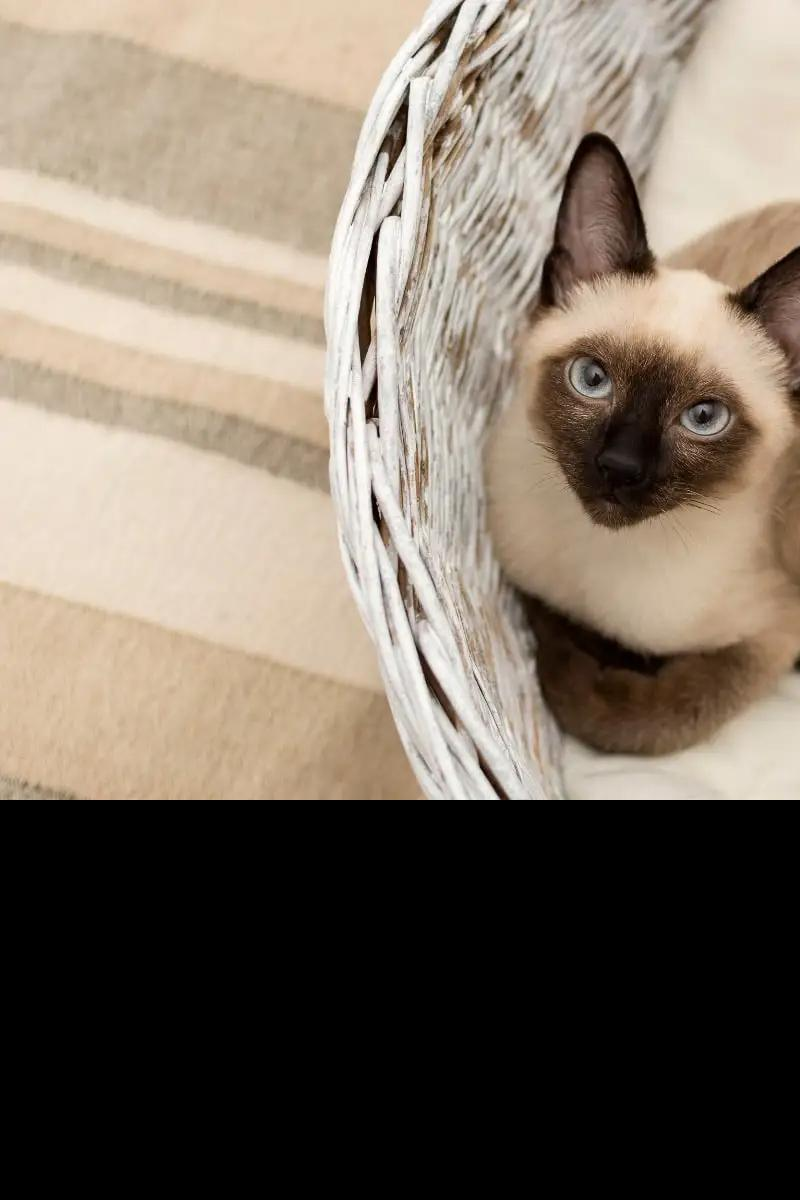siamese: (494, 137, 800, 529)
